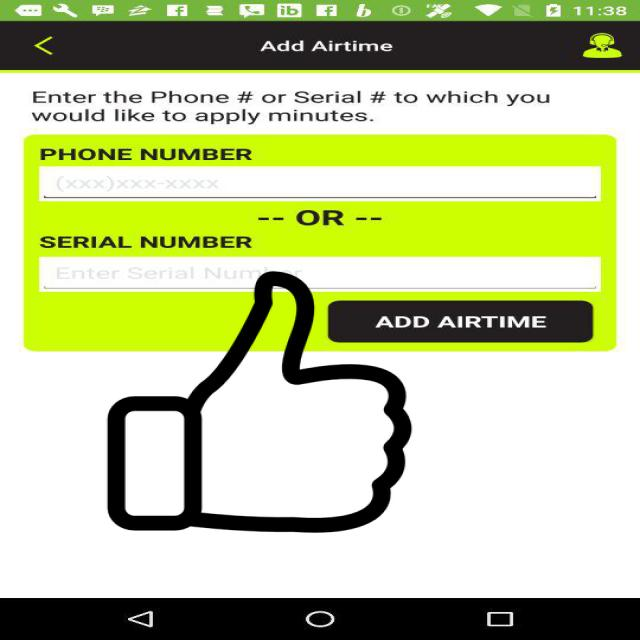privacy zuckering: (103, 271, 416, 533)
